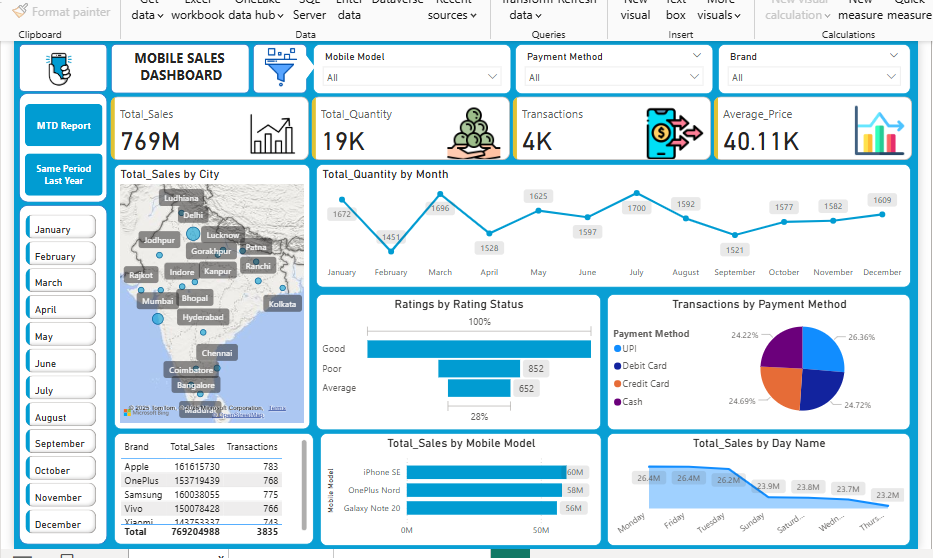

This screenshot's page, from the dashboard's own definition file:
{"tool":"powerbi","page":{"name":"Dashboard","canvas":[1280,720],"ordinal":0},"visuals":[{"type":"shape","box":[7.5,3.8,125,67.5],"z":0},{"type":"image","box":[23.8,3.8,78.8,71.2],"z":1000},{"type":"shape","box":[7.5,73.8,125,155],"z":2000},{"type":"shape","box":[7.5,232.5,125,481.2],"z":3000},{"type":"advancedSlicerVisual","fields":{"Values":["Custom_Calendar.Date.Variation.Date Hierarchy.Month"]},"box":[11.2,241.2,110,472.5],"z":4000},{"type":"cardVisual","fields":{"Data":["Sales_Data.Total_Sales","Sales_Data.Total_Quantity","Sales_Data.Transactions","Sales_Data.Average_Price"]},"box":[132.5,73.8,1147.5,100],"z":5000},{"type":"slicer","fields":{"Values":["Sales_Data.Mobile Model"]},"box":[423.8,3.8,281.2,71.2],"z":6000},{"type":"slicer","fields":{"Values":["Sales_Data.Payment Method"]},"box":[710,3.8,281.2,71.2],"z":7000},{"type":"slicer","fields":{"Values":["Sales_Data.Brand"]},"box":[997.5,3.8,272.5,71.2],"z":8000},{"type":"shape","box":[338.8,3.8,76.2,70],"z":9000},{"type":"image","box":[337.5,3.8,81.2,66.2],"z":10000},{"type":"shape","box":[397.5,17.5,30,40],"z":11000},{"type":"shape","box":[137.5,3.8,196.2,70],"z":12000},{"type":"textbox","box":[156.2,6.2,162.5,63.8],"z":13000},{"type":"map","fields":{"Category":["Sales_Data.City"],"Size":["Sales_Data.Total_Sales"]},"box":[141.2,175,277.5,376.2],"z":14000},{"type":"lineChart","fields":{"Y":["Sales_Data.Total_Quantity"],"Category":["Custom_Calendar.Date.Variation.Date Hierarchy.Month"]},"box":[427.5,175,842.5,175],"z":15000},{"type":"funnel","title":"Ratings by Rating Status","fields":{"Y":["CountNonNull(Sales_Data.Customer Ratings)"],"Category":["Sales_Data.Rating Status"]},"box":[427.5,358.8,403.8,192.5],"z":16000},{"type":"pieChart","fields":{"Y":["Sales_Data.Transactions"],"Category":["Sales_Data.Payment Method"]},"box":[840,358.8,430,192.5],"z":17000},{"type":"clusteredBarChart","fields":{"Y":["Sales_Data.Total_Sales"],"Category":["Sales_Data.Mobile Model"]},"box":[433.8,556.2,398.8,160],"z":18000},{"type":"areaChart","fields":{"Y":["Sales_Data.Total_Sales"],"Category":["Custom_Calendar.Day Name"]},"box":[840,556.2,430,160],"z":19000},{"type":"tableEx","fields":{"Values":["Sales_Data.Brand","Sales_Data.Total_Sales","Sales_Data.Transactions"]},"box":[141.2,556.2,282.5,157.5],"z":20000},{"type":"pageNavigator","box":[15,88.8,110,130],"z":21000}]}

Visuals, with their boxes on the page's 1280x720 design canvas (x1, y1, x2, y2). These are canvas units, not pixel positions in the 933x558 screenshot, which may show the page scaled, cropped or inside an application window:
shape: 8,4,132,71
image: 24,4,103,75
shape: 8,74,132,229
shape: 8,232,132,714
advancedSlicerVisual - Custom_Calendar.Date.Variation.Date Hierarchy.Month: 11,241,121,714
cardVisual - Sales_Data.Total_Sales x Sales_Data.Total_Quantity: 132,74,1280,174
slicer - Sales_Data.Mobile Model: 424,4,705,75
slicer - Sales_Data.Payment Method: 710,4,991,75
slicer - Sales_Data.Brand: 998,4,1270,75
shape: 339,4,415,74
image: 338,4,419,70
shape: 398,18,428,58
shape: 138,4,334,74
textbox: 156,6,319,70
map - Sales_Data.City x Sales_Data.Total_Sales: 141,175,419,551
lineChart - Sales_Data.Total_Quantity x Custom_Calendar.Date.Variation.Date Hierarchy.Month: 428,175,1270,350
"Ratings by Rating Status" funnel: 428,359,831,551
pieChart - Sales_Data.Transactions x Sales_Data.Payment Method: 840,359,1270,551
clusteredBarChart - Sales_Data.Total_Sales x Sales_Data.Mobile Model: 434,556,833,716
areaChart - Sales_Data.Total_Sales x Custom_Calendar.Day Name: 840,556,1270,716
tableEx - Sales_Data.Brand x Sales_Data.Total_Sales: 141,556,424,714
pageNavigator: 15,89,125,219
